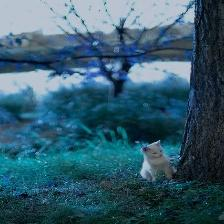kedo: (142, 140, 174, 181)
